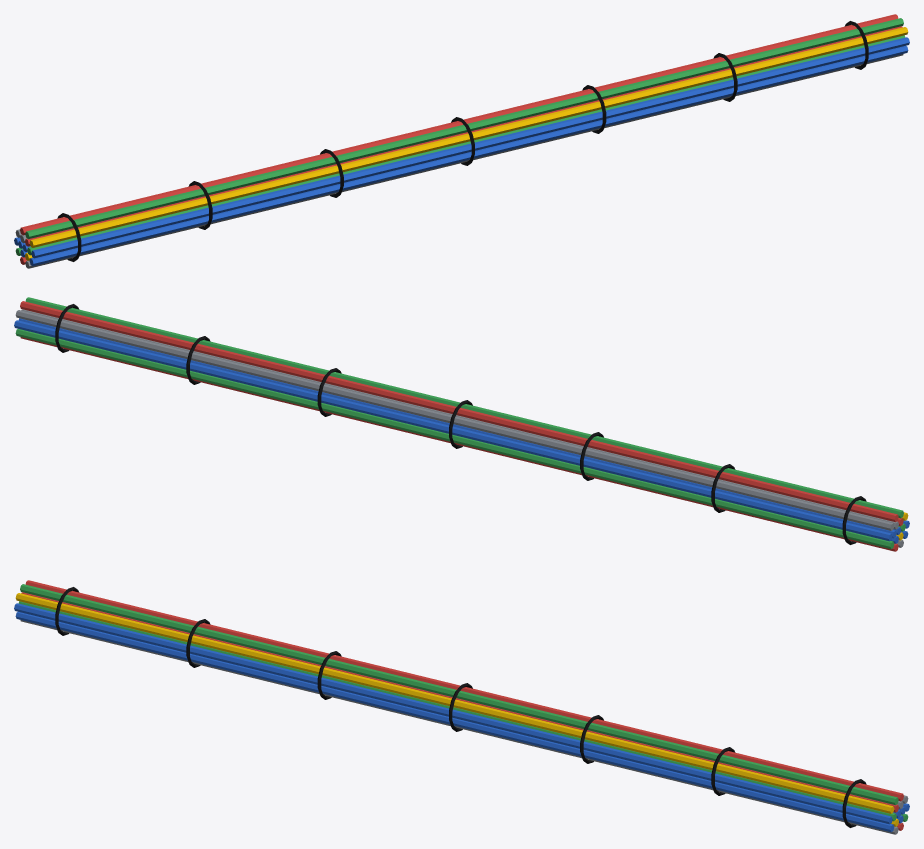
File: 30_Cable_Bundle_2m.fbx
3 views of the same model, one above another, from view 1: azimuth 30°, elevation 25°; view 2: azimuth 150°, elevation 25°; view 3: azimuth 330°, elevation 25° (orthographic).
Visible parts, largest first — view 1: 30_Cable_Bundle_2m; view 2: 30_Cable_Bundle_2m; view 3: 30_Cable_Bundle_2m.
Boxes of the visible parts, x1,y1,x2,y2 form: 30_Cable_Bundle_2m: [14, 14, 909, 268]; 30_Cable_Bundle_2m: [14, 297, 909, 551]; 30_Cable_Bundle_2m: [14, 580, 909, 834].
Size of the model in its own units: 2 by 0.1 by 0.0975.
